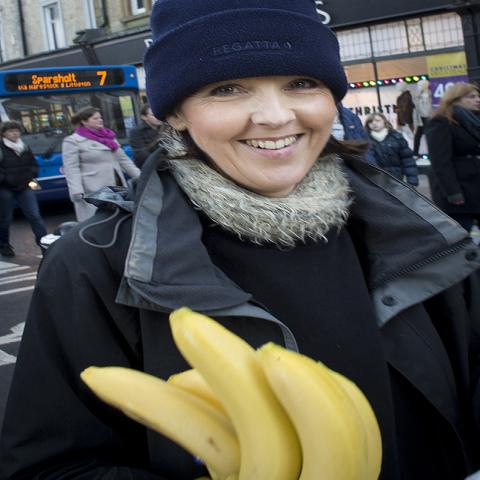bus: (2, 65, 140, 201)
